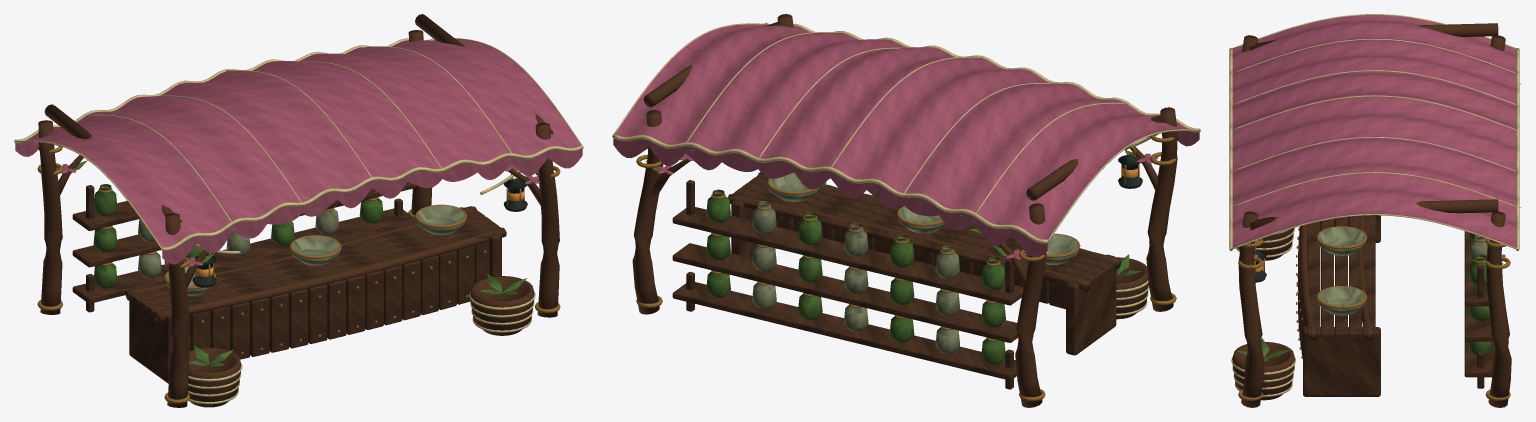
File: Spring_Shop.fbx
3 renders of one model, left to right at view 1: azimuth 30°, elevation 25°; view 2: azimuth 150°, elevation 25°; view 3: azimuth 270°, elevation 25°, orthographic. The views are drawn at different scales.
Visible parts, largest first — view 1: Spring_Shop_Cloth, Spring_Shop_Wood, Spring_Shop_Ivory, Spring_Shop_Stone, Spring_Shop_Accent, Spring_Shop_Metal, Spring_Shop_Iron; view 2: Spring_Shop_Cloth, Spring_Shop_Wood, Spring_Shop_Stone, Spring_Shop_Accent, Spring_Shop_Ivory, Spring_Shop_Metal; view 3: Spring_Shop_Cloth, Spring_Shop_Wood, Spring_Shop_Ivory, Spring_Shop_Stone, Spring_Shop_Metal, Spring_Shop_Accent.
Boxes of the visible parts, box(x1,y1,x2,y2) form: Spring_Shop_Cloth: box(15, 39, 582, 266); Spring_Shop_Wood: box(38, 14, 559, 407); Spring_Shop_Ivory: box(14, 38, 583, 404); Spring_Shop_Stone: box(138, 205, 465, 296); Spring_Shop_Accent: box(74, 160, 539, 366); Spring_Shop_Metal: box(37, 144, 560, 403); Spring_Shop_Iron: box(192, 178, 527, 287); Spring_Shop_Cloth: box(613, 24, 1199, 259); Spring_Shop_Wood: box(632, 14, 1177, 407); Spring_Shop_Stone: box(752, 172, 1078, 353); Spring_Shop_Accent: box(645, 149, 1142, 364); Spring_Shop_Ivory: box(612, 22, 1200, 315); Spring_Shop_Metal: box(636, 133, 1176, 401); Spring_Shop_Cloth: box(1232, 15, 1515, 261); Spring_Shop_Wood: box(1232, 23, 1511, 407); Spring_Shop_Ivory: box(1229, 14, 1519, 397); Spring_Shop_Stone: box(1317, 227, 1487, 315); Spring_Shop_Metal: box(1238, 226, 1510, 400); Spring_Shop_Accent: box(1236, 83, 1520, 361).
Size of the model in its own units: 10.93 by 5.77 by 6.74.
